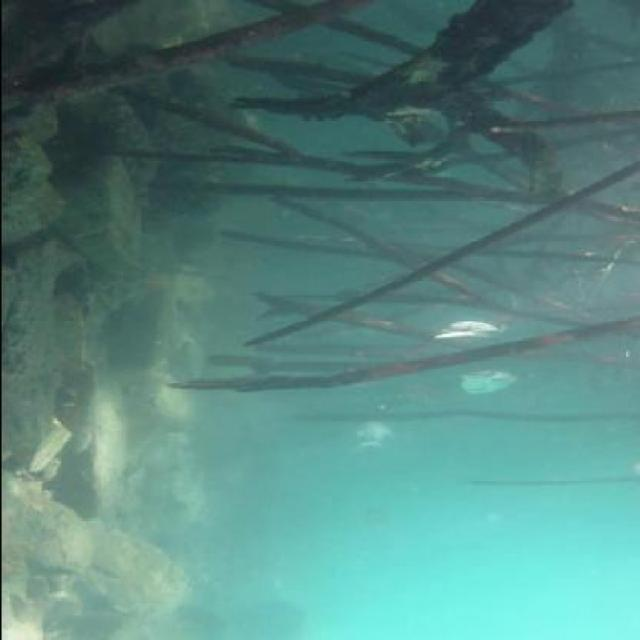Caranx_sexfasciatus_juvenile: (424, 315, 514, 353), (452, 364, 532, 396), (338, 418, 399, 452), (393, 386, 461, 414)
